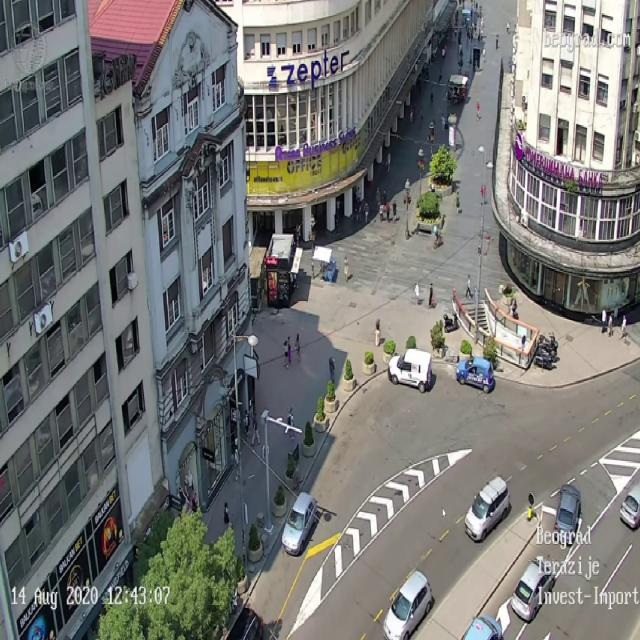car: (383, 569, 435, 639), (464, 475, 511, 542), (511, 555, 556, 622), (281, 492, 317, 556), (387, 348, 432, 393), (554, 484, 581, 546), (455, 356, 495, 394), (618, 481, 640, 534), (461, 614, 504, 640)
